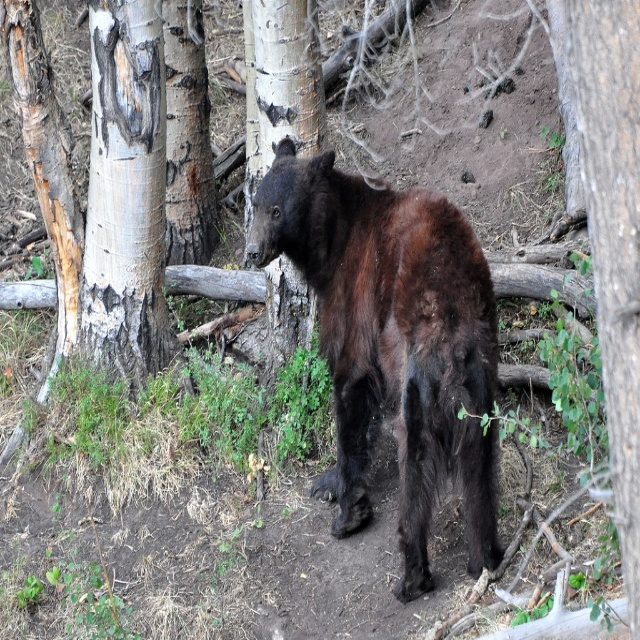Bear: (243, 139, 500, 609)
